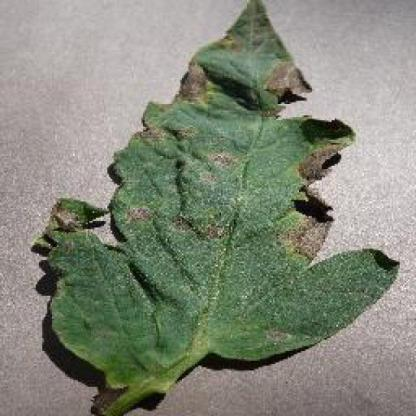Tomato_Blight: (36, 0, 400, 394)
